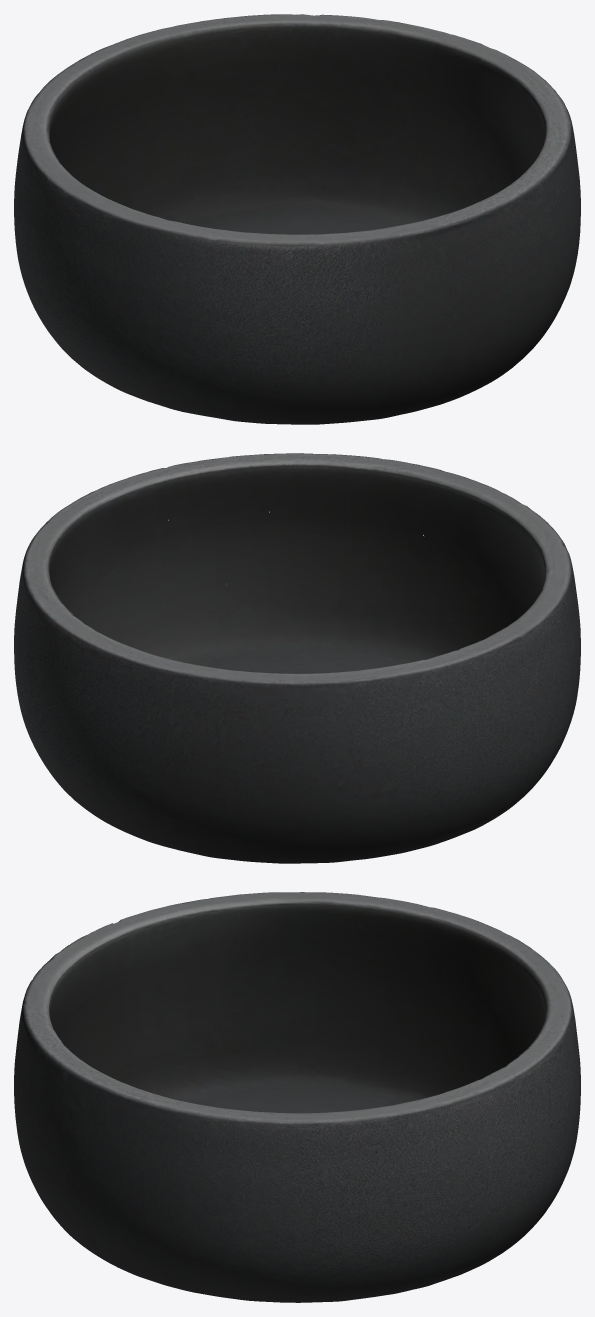
Rendered from semiesferica.glb.
3 renders of one model, top to bottom at view 1: azimuth 30°, elevation 25°; view 2: azimuth 150°, elevation 25°; view 3: azimuth 270°, elevation 25°, orthographic.
Parts seen in each view (by area): view 1: tripo_node_37c1f4f8-a1de-4b9b-ae68-b2378d3d2f5f; view 2: tripo_node_37c1f4f8-a1de-4b9b-ae68-b2378d3d2f5f; view 3: tripo_node_37c1f4f8-a1de-4b9b-ae68-b2378d3d2f5f.
Boxes of the visible parts, x1,y1,x2,y2 form: tripo_node_37c1f4f8-a1de-4b9b-ae68-b2378d3d2f5f: (14,14,580,424); tripo_node_37c1f4f8-a1de-4b9b-ae68-b2378d3d2f5f: (14,453,580,863); tripo_node_37c1f4f8-a1de-4b9b-ae68-b2378d3d2f5f: (14,892,580,1302).
Bounding box in the file's own units: 0.9799 × 0.3856 × 0.9799.
1 material, 1 textured.
